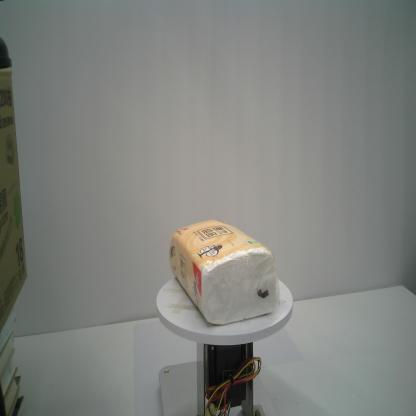Tissue: (167, 218, 278, 328)
